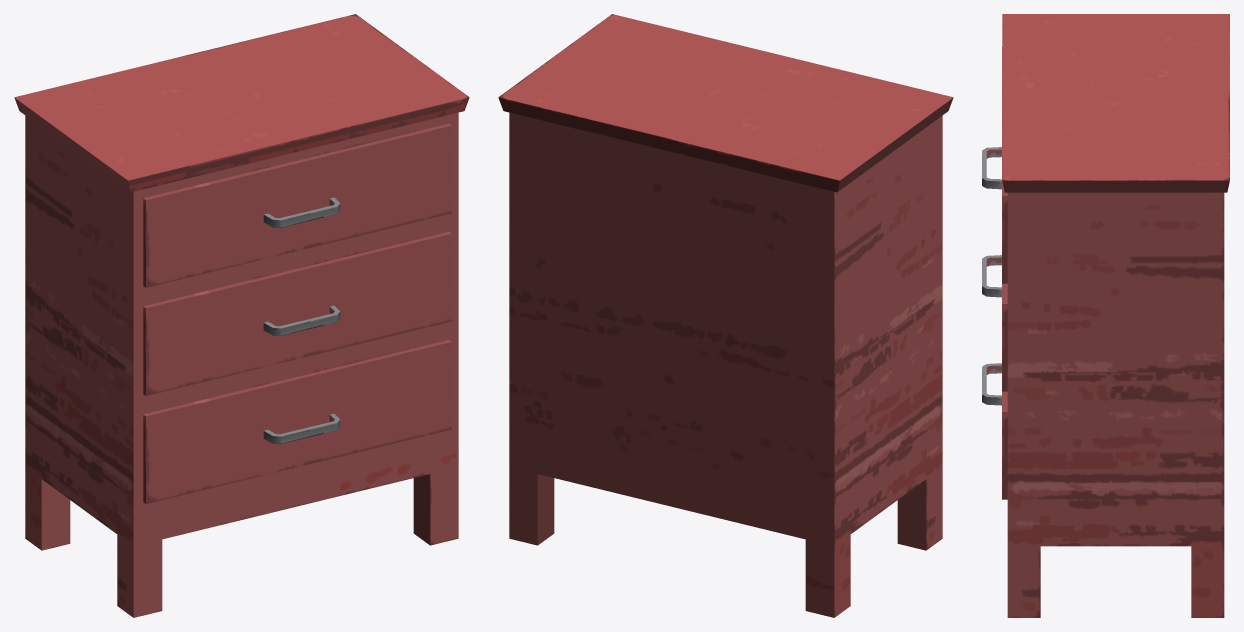
File: OpeableDrawer.fbx
The picture shows the model from 3 angles, left to right: view 1: azimuth 30°, elevation 25°; view 2: azimuth 150°, elevation 25°; view 3: azimuth 270°, elevation 25°; orthographic projection.
Parts seen in each view (by area): view 1: drawer, drawer1, drawer2, drawer3; view 2: drawer; view 3: drawer, drawer1, drawer2, drawer3.
Part boxes in pixels (x1,y1,x2,y2): drawer: [14, 14, 469, 617]; drawer1: [143, 123, 451, 287]; drawer2: [143, 232, 451, 395]; drawer3: [143, 340, 451, 503]; drawer: [498, 14, 953, 617]; drawer: [1002, 14, 1229, 617]; drawer1: [982, 47, 1007, 283]; drawer2: [982, 255, 1007, 391]; drawer3: [982, 363, 1007, 499].
Bounding box in the file's own units: 374 × 462 × 235.
